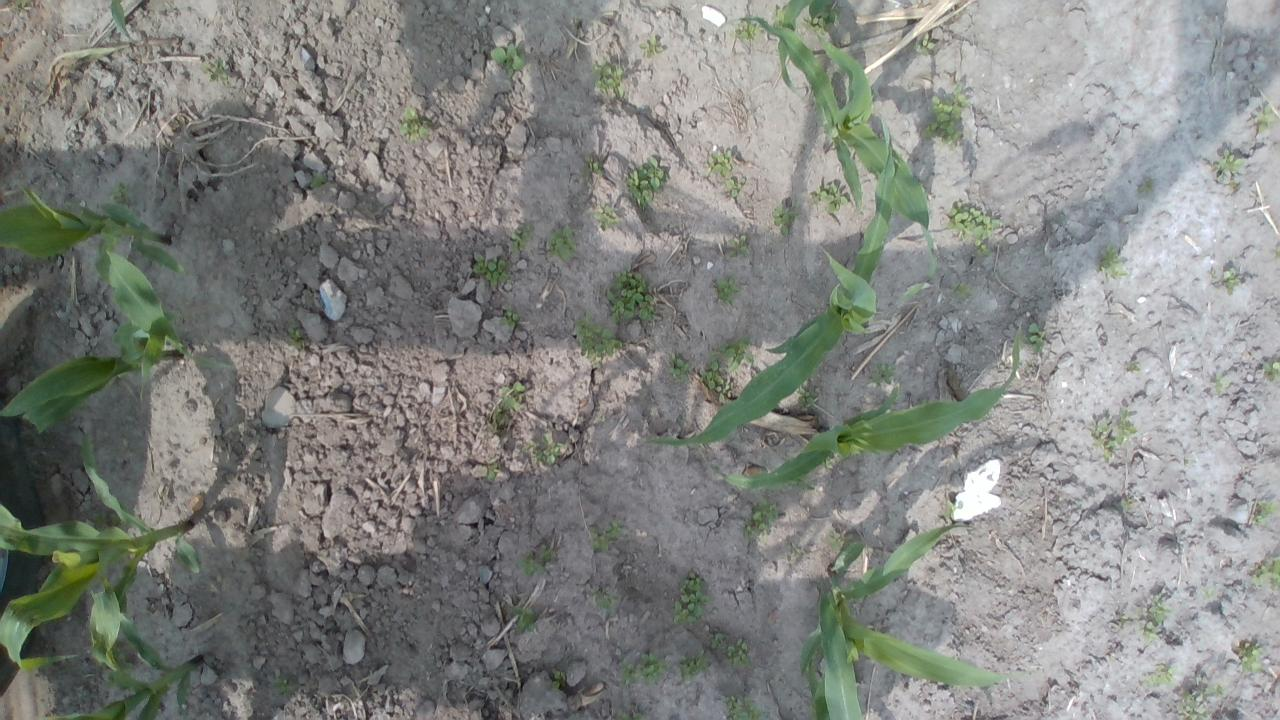Maize: (638, 114, 898, 454), (708, 318, 1025, 492), (0, 434, 204, 674), (796, 517, 1034, 720), (727, 13, 932, 234), (1, 250, 241, 434), (3, 574, 206, 718), (0, 182, 190, 314), (777, 1, 837, 101)
Weeds: (604, 271, 662, 329), (922, 82, 972, 148), (1084, 404, 1136, 464), (571, 310, 623, 368), (946, 202, 1004, 254), (670, 356, 734, 397), (1178, 674, 1230, 717), (624, 156, 666, 208), (617, 647, 669, 688), (672, 568, 706, 627), (1136, 588, 1170, 644), (521, 430, 567, 467), (468, 252, 514, 289), (586, 520, 630, 558), (708, 630, 754, 666), (710, 334, 760, 366), (518, 541, 560, 578), (744, 498, 780, 538), (809, 180, 852, 212), (589, 59, 626, 96), (1012, 318, 1046, 356), (544, 224, 577, 261), (489, 41, 526, 73), (1213, 148, 1250, 179), (1140, 662, 1177, 692), (724, 694, 770, 718), (672, 651, 710, 680), (401, 104, 430, 142), (1238, 640, 1268, 676), (773, 198, 800, 238), (1210, 264, 1246, 294), (1251, 554, 1280, 591), (506, 602, 536, 637), (198, 55, 234, 84), (497, 381, 526, 417), (711, 276, 744, 307), (1096, 246, 1130, 276), (588, 584, 620, 613), (1252, 101, 1276, 138), (869, 361, 898, 390), (706, 147, 734, 175), (1252, 498, 1278, 526), (110, 180, 138, 204), (506, 225, 530, 253), (593, 204, 617, 230), (284, 322, 306, 348), (914, 32, 938, 54), (730, 234, 751, 256), (641, 35, 664, 55), (1263, 358, 1280, 385), (270, 676, 294, 694), (794, 387, 816, 406), (951, 285, 974, 303), (723, 178, 746, 195), (309, 172, 329, 190), (552, 670, 567, 693), (486, 463, 500, 483), (1213, 380, 1227, 395)
